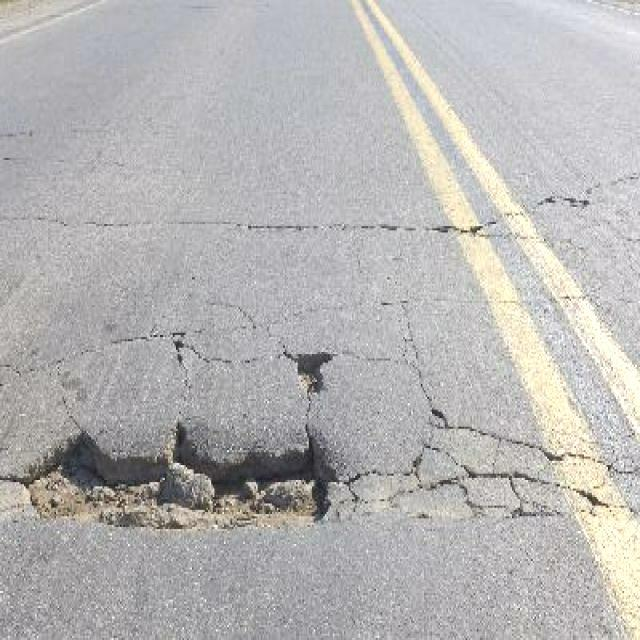Pothole: (16, 416, 347, 531), (291, 346, 336, 395)
